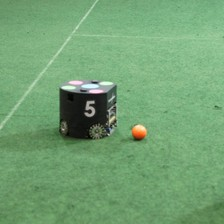ball: (130, 122, 149, 142)
robot: (56, 75, 119, 141)
